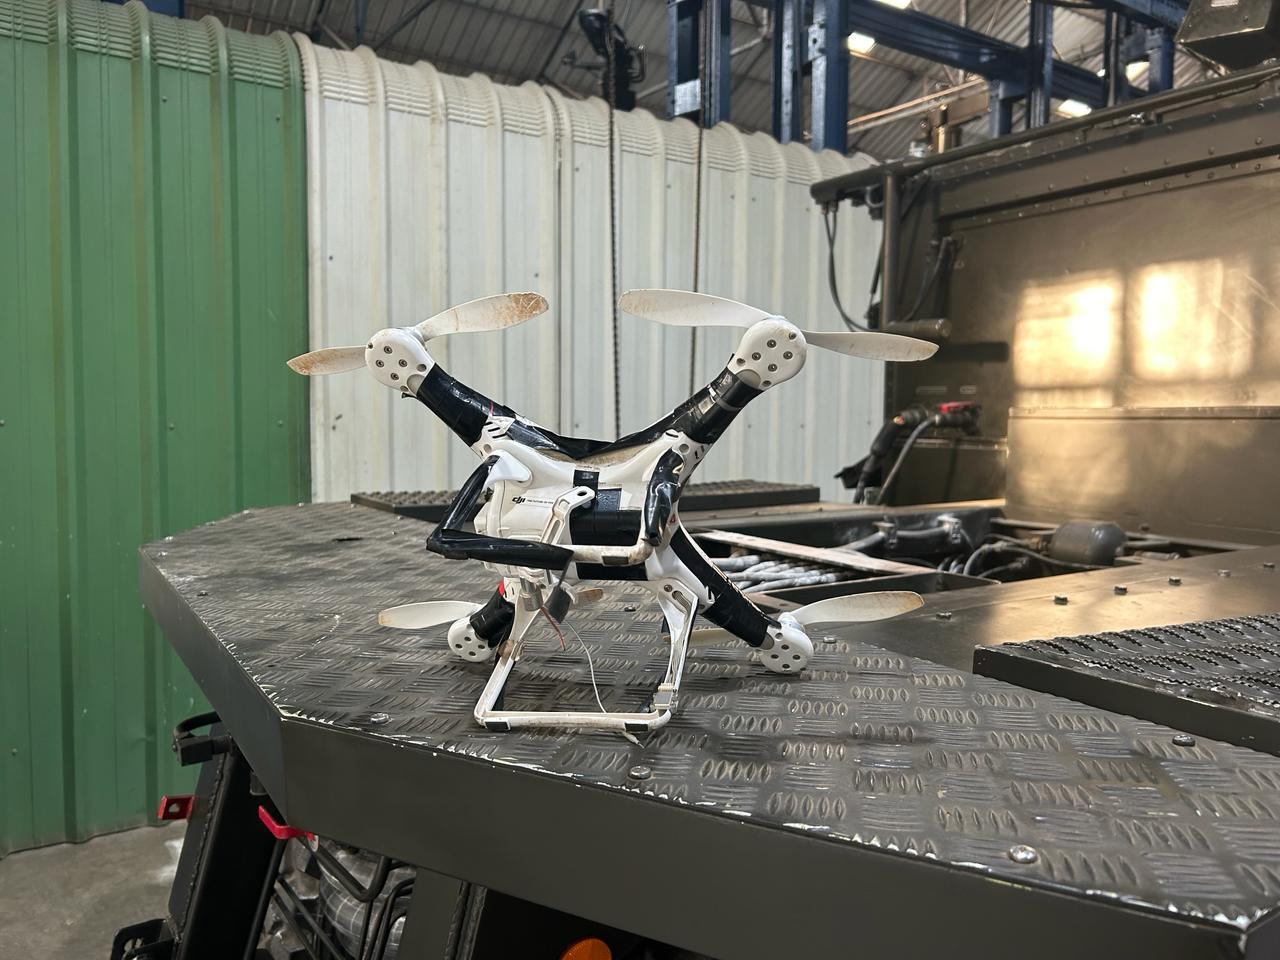drone: (296, 229, 998, 814)
